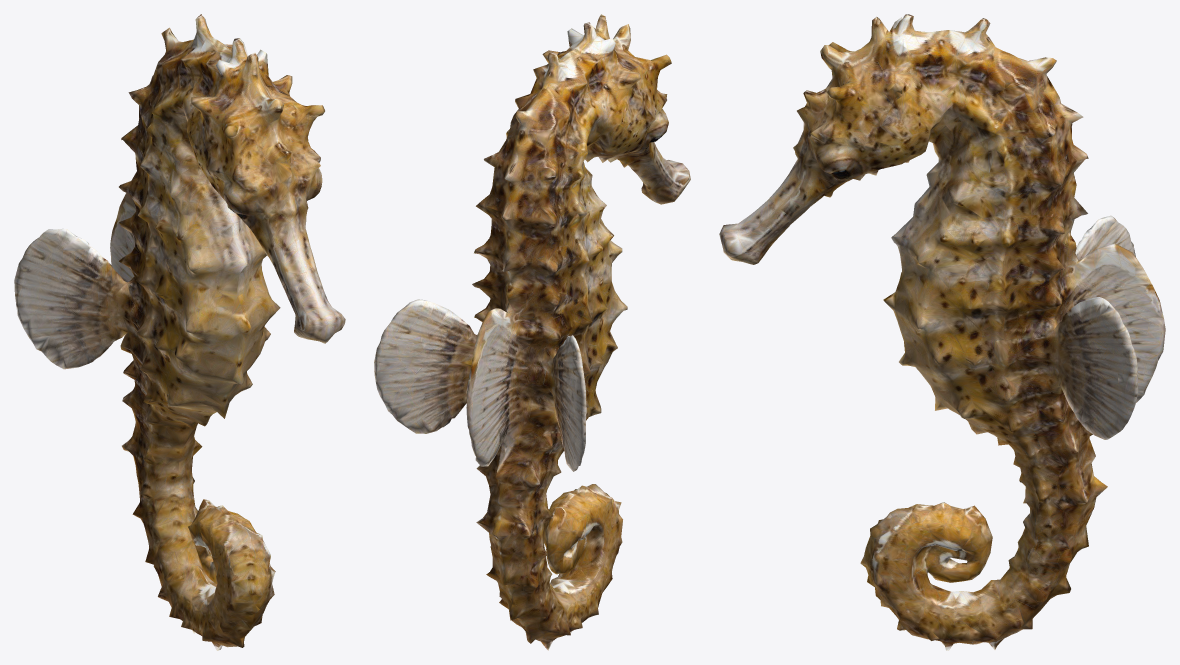
File: fish_seahorse.glb
3 renders of one model, left to right at view 1: azimuth 30°, elevation 25°; view 2: azimuth 150°, elevation 25°; view 3: azimuth 270°, elevation 25°, orthographic. The views are drawn at different scales.
Parts seen in each view (by area): view 1: geometry_0; view 2: geometry_0; view 3: geometry_0.
Part boxes in pixels (<box>): geometry_0: <box>14,14,345,650</box>; geometry_0: <box>374,14,690,650</box>; geometry_0: <box>719,14,1165,650</box>.
Bounding box in the file's own units: 0.7287 × 1.96 × 1.24.
1 material, 1 textured.
